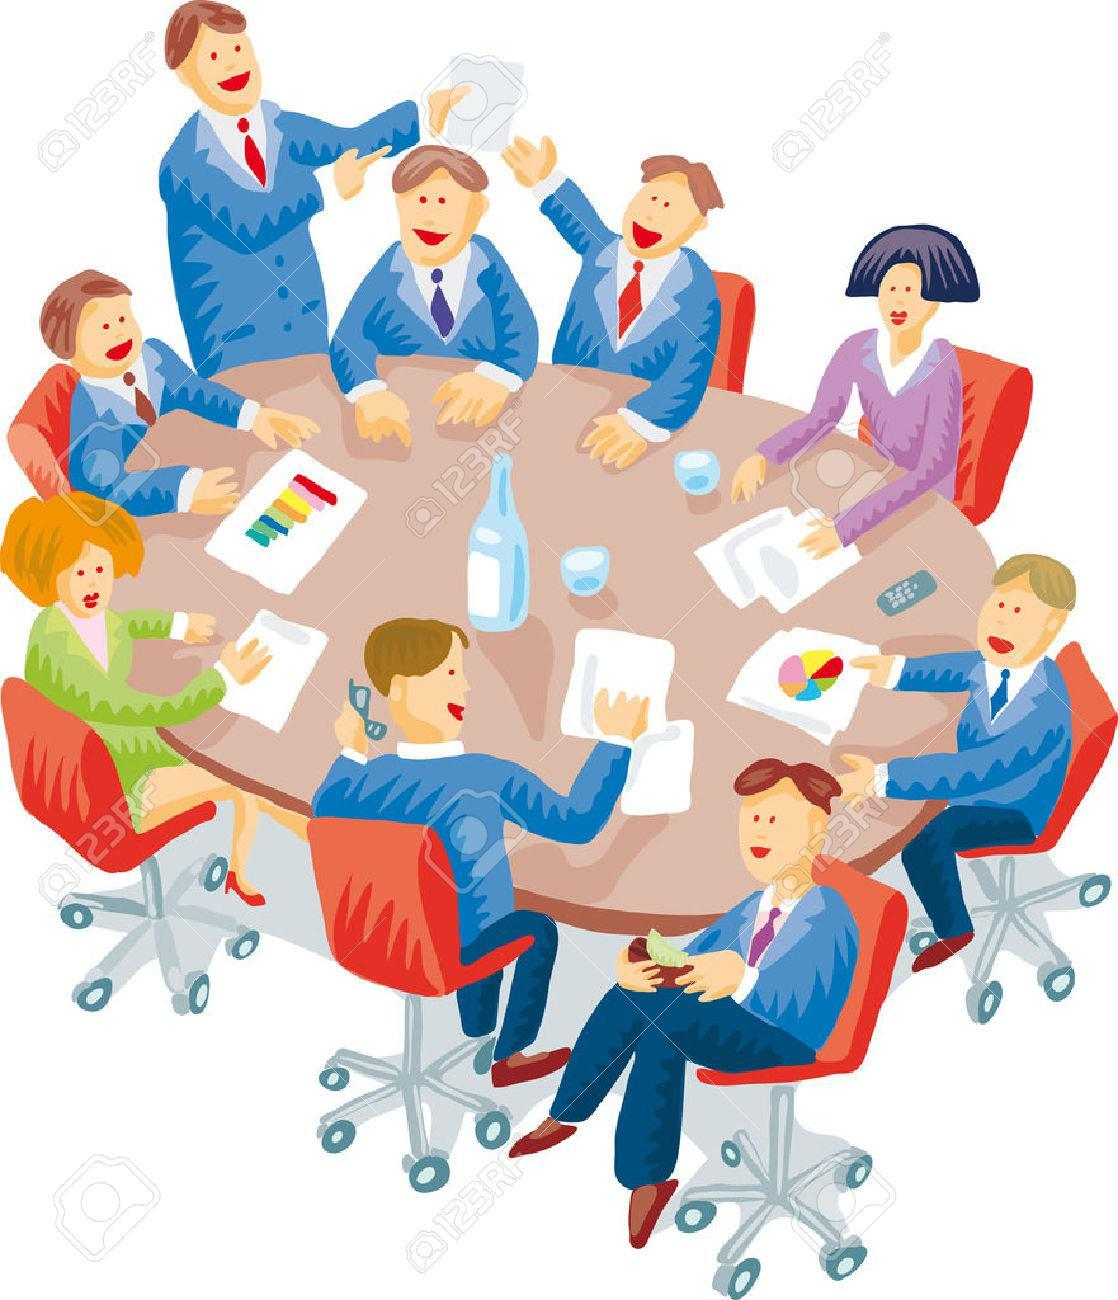bottle: (454, 431, 546, 638)
chair: (617, 818, 904, 1261), (269, 807, 537, 1196), (1, 668, 287, 1025), (926, 631, 1113, 1009)
person: (496, 757, 861, 1274), (300, 600, 617, 1070), (111, 1, 478, 372), (1, 485, 267, 931), (839, 535, 1080, 1005), (724, 201, 1000, 550), (495, 114, 737, 474), (19, 259, 339, 509), (306, 144, 552, 448)
